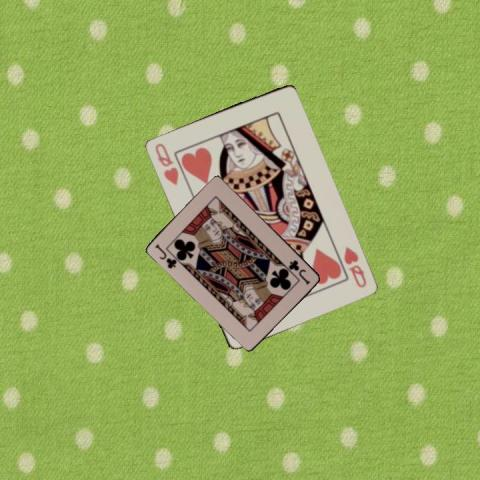Jc: (286, 257, 312, 286), (152, 241, 178, 270)
Qh: (151, 140, 180, 187), (340, 243, 367, 290)
